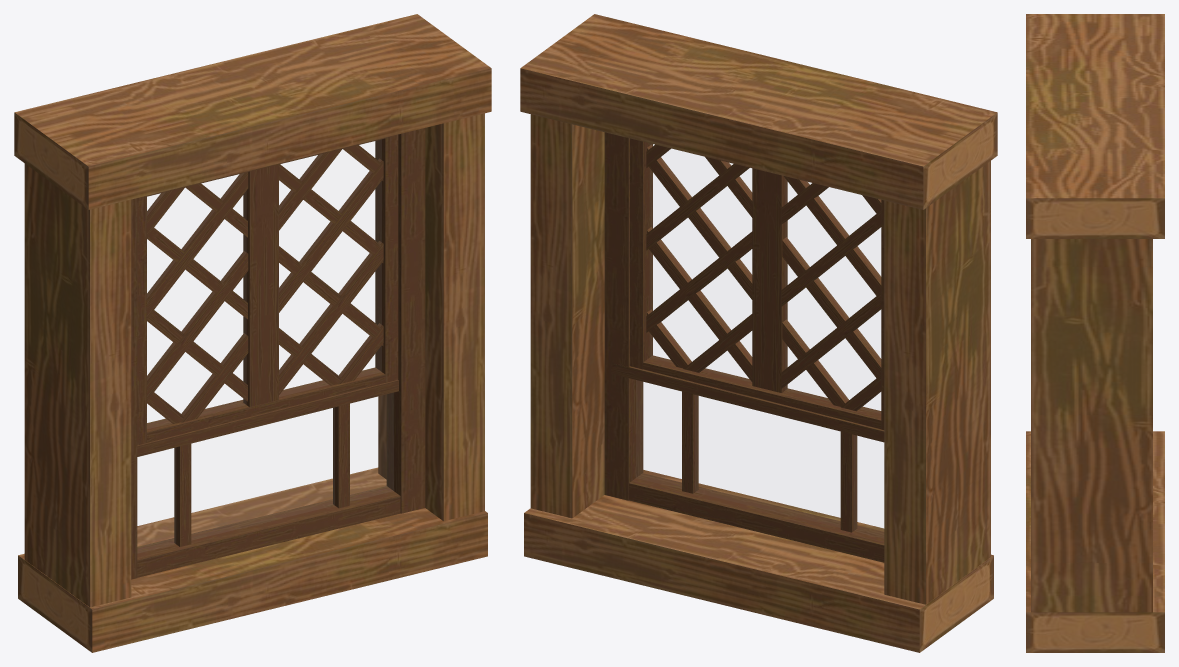
The model's file is Window_Wide_Flat3.gltf.
The picture shows the model from 3 angles, left to right: view 1: azimuth 30°, elevation 25°; view 2: azimuth 150°, elevation 25°; view 3: azimuth 270°, elevation 25°; orthographic projection. The views are drawn at different scales.
Parts seen in each view (by area): view 1: Window_Wide_Flat3; view 2: Window_Wide_Flat3; view 3: Window_Wide_Flat3.
Boxes of the visible parts, x1,y1,x2,y2 form: Window_Wide_Flat3: (14,14,491,652); Window_Wide_Flat3: (520,14,997,652); Window_Wide_Flat3: (1026,14,1164,652).
Bounding box in the file's own units: 1.37 × 1.58 × 0.4357.
2 materials, 1 textured.
